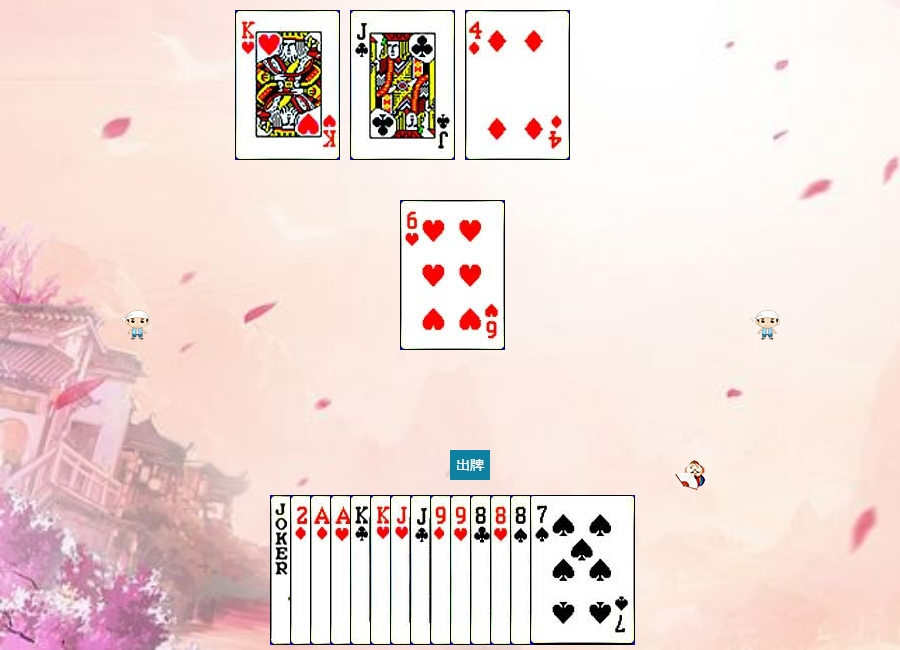11~2: (350, 10, 455, 160), (410, 495, 515, 645)
11~3: (390, 495, 495, 645)
13~2: (350, 495, 455, 645)
13~3: (235, 10, 340, 160), (370, 495, 475, 645)
14~1: (310, 495, 415, 645)
14~3: (330, 495, 435, 645)
15~1: (290, 495, 395, 645)
17~3: (270, 495, 375, 645)
4~1: (465, 10, 570, 160)
6~3: (400, 200, 505, 350)
7~4: (530, 495, 635, 645)
8~2: (470, 495, 575, 645)
8~3: (490, 495, 595, 645)
8~4: (510, 495, 615, 645)
9~1: (430, 495, 535, 645)
9~3: (450, 495, 555, 645)
